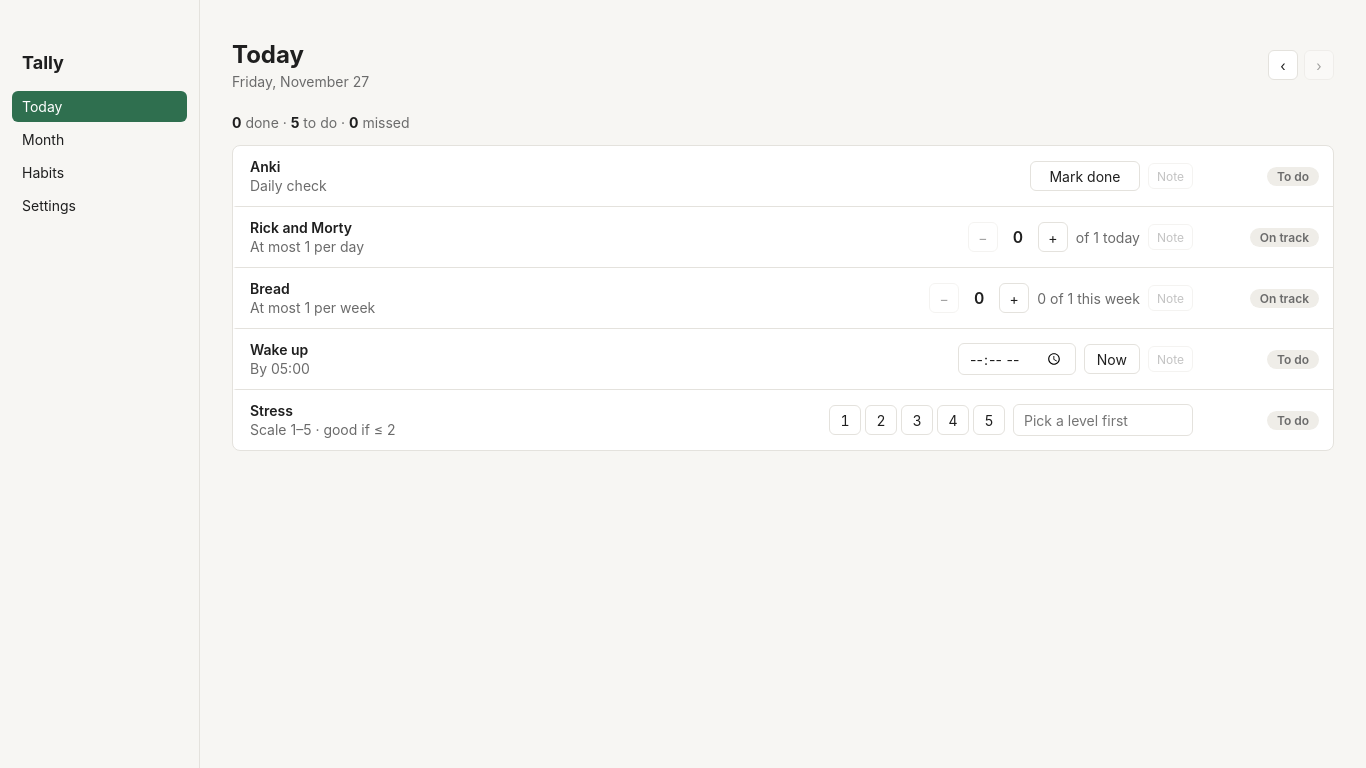
Test: TodayPage › edits a past day and never goes into the future
Expected: the button named "Next day" is disabled, [1304,50,1334,80]
Step 1. Click the button named "Previous day" → (1283, 65), box [1268,50,1298,80]
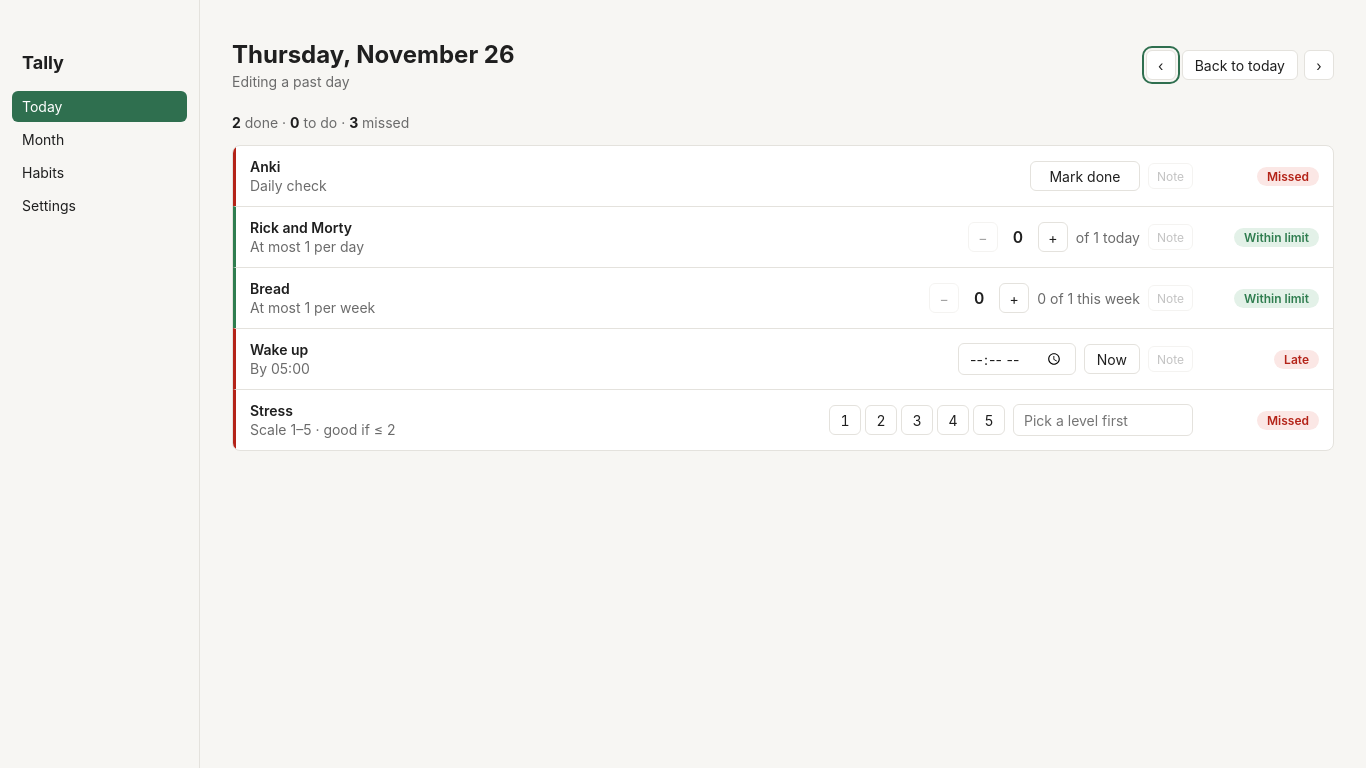
Now the heading "Thursday, November 26" is shown, box [232,40,515,69]
Now the element named "Summary" reads "2 done · 0 to do · 3 missed", box [232,114,409,131]
Step 2. Click the button with aria-label "Anki done" → (1085, 176), box [1030,161,1140,191]
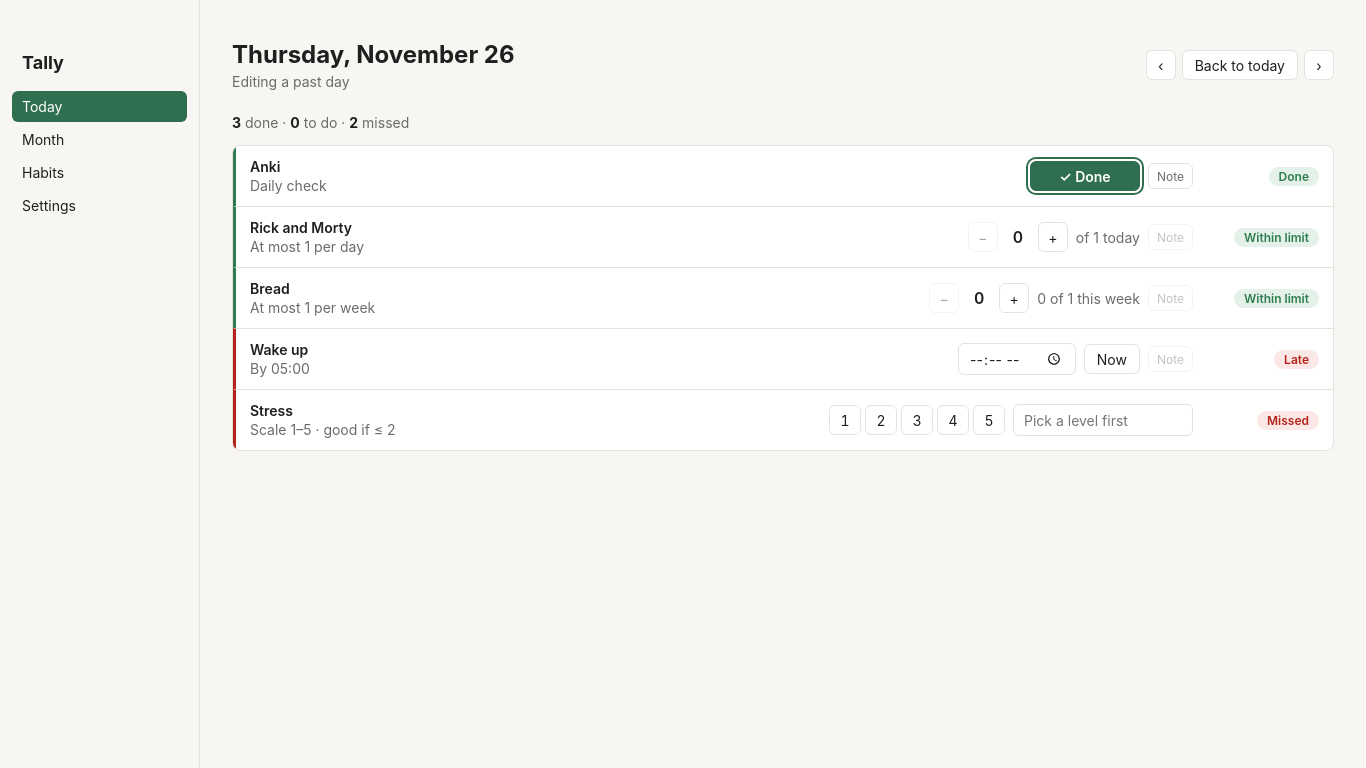
Step 3. Click the button "Back to today" → (1240, 65), box [1182,50,1298,80]
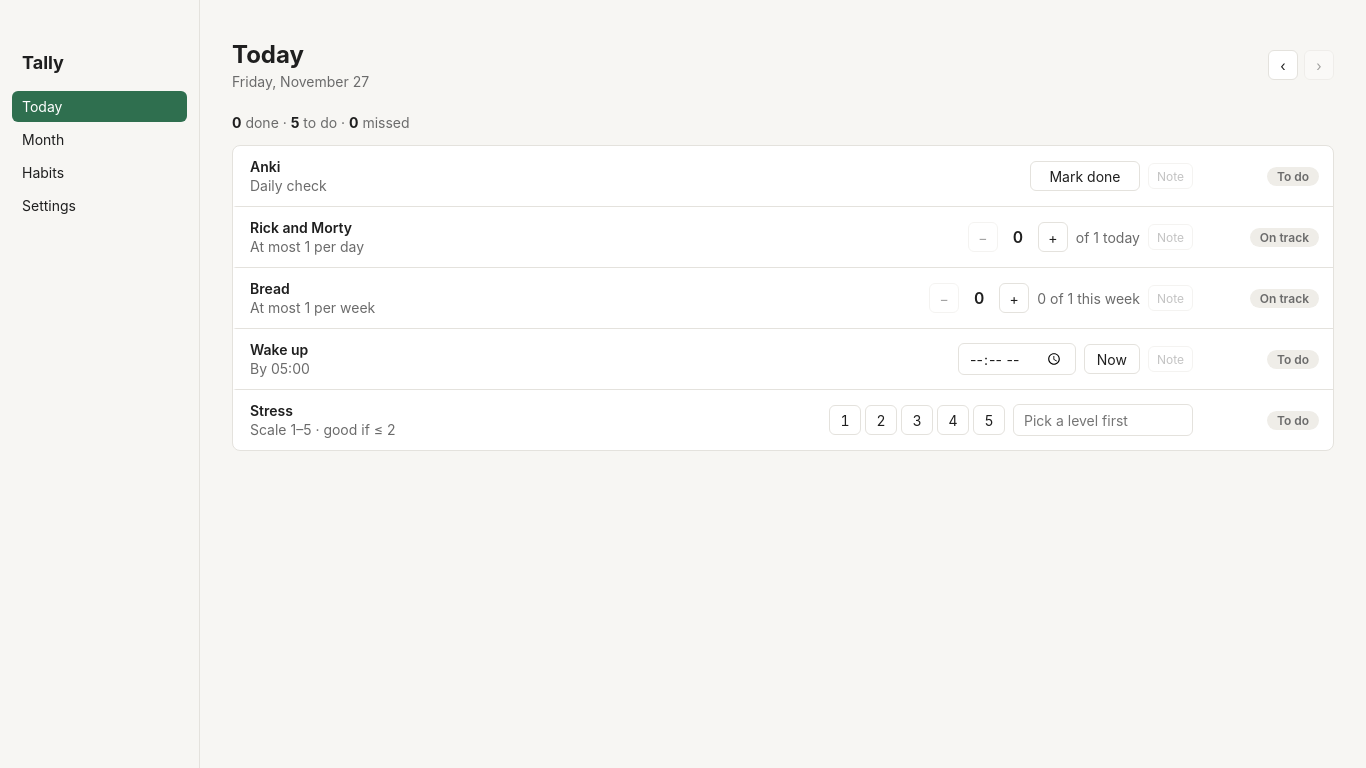
Now the heading "Today" is shown, box [232,40,304,69]
